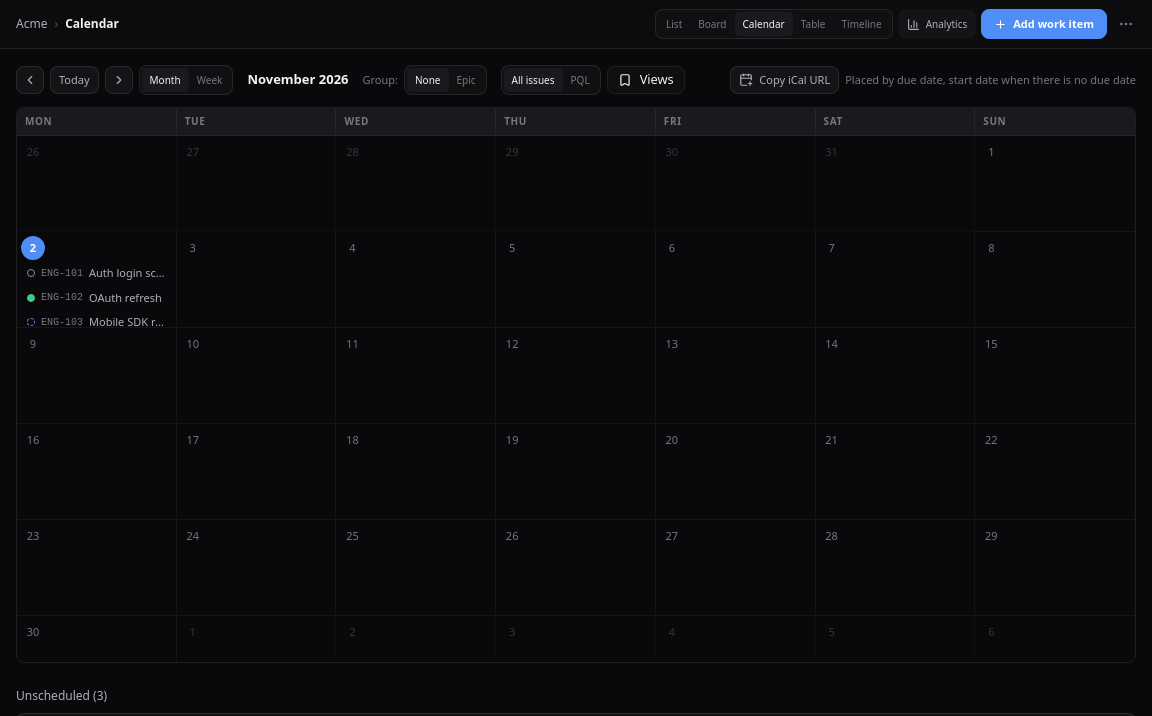
Scenario: Calendar group by epic — month view › shows per-lane counts and Done X of N captions from member states
The image size is (1152, 716).
expect the button titled "ENG-101: Auth login screen" is shown: met, box top-left (21, 262), bottom-right (172, 284)
Click the tab "Epic": (466, 80) top-left (448, 68), bottom-right (484, 92)
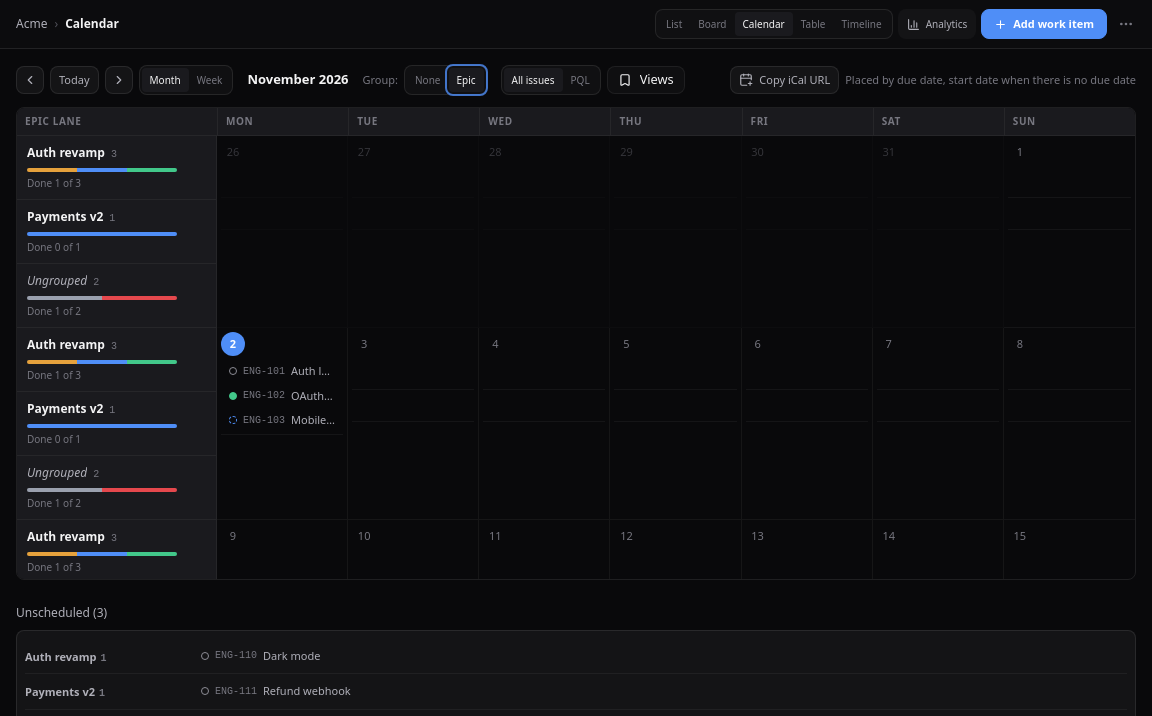
expect the 1st text "Done 1 of 3" is shown: met, box top-left (27, 176), bottom-right (81, 190)
expect the 1st text "Done 0 of 1" is shown: met, box top-left (27, 240), bottom-right (81, 254)
expect the 1st text "Done 1 of 2" is shown: met, box top-left (27, 304), bottom-right (81, 318)
